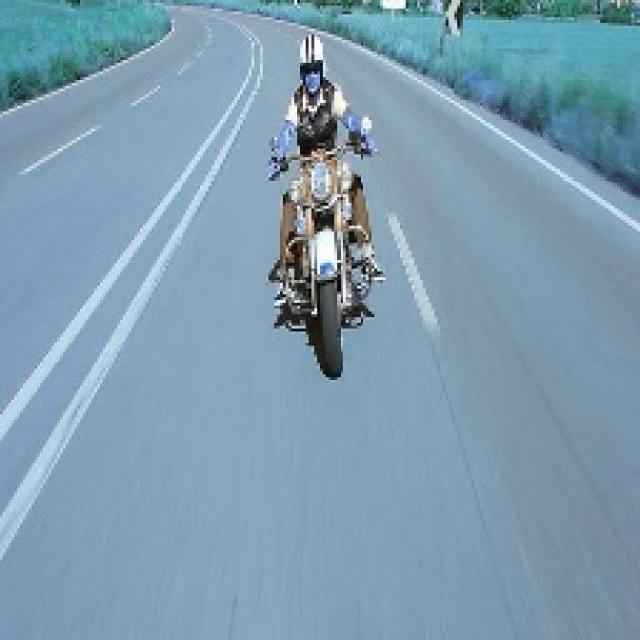Motorcycle: (284, 123, 367, 385)
